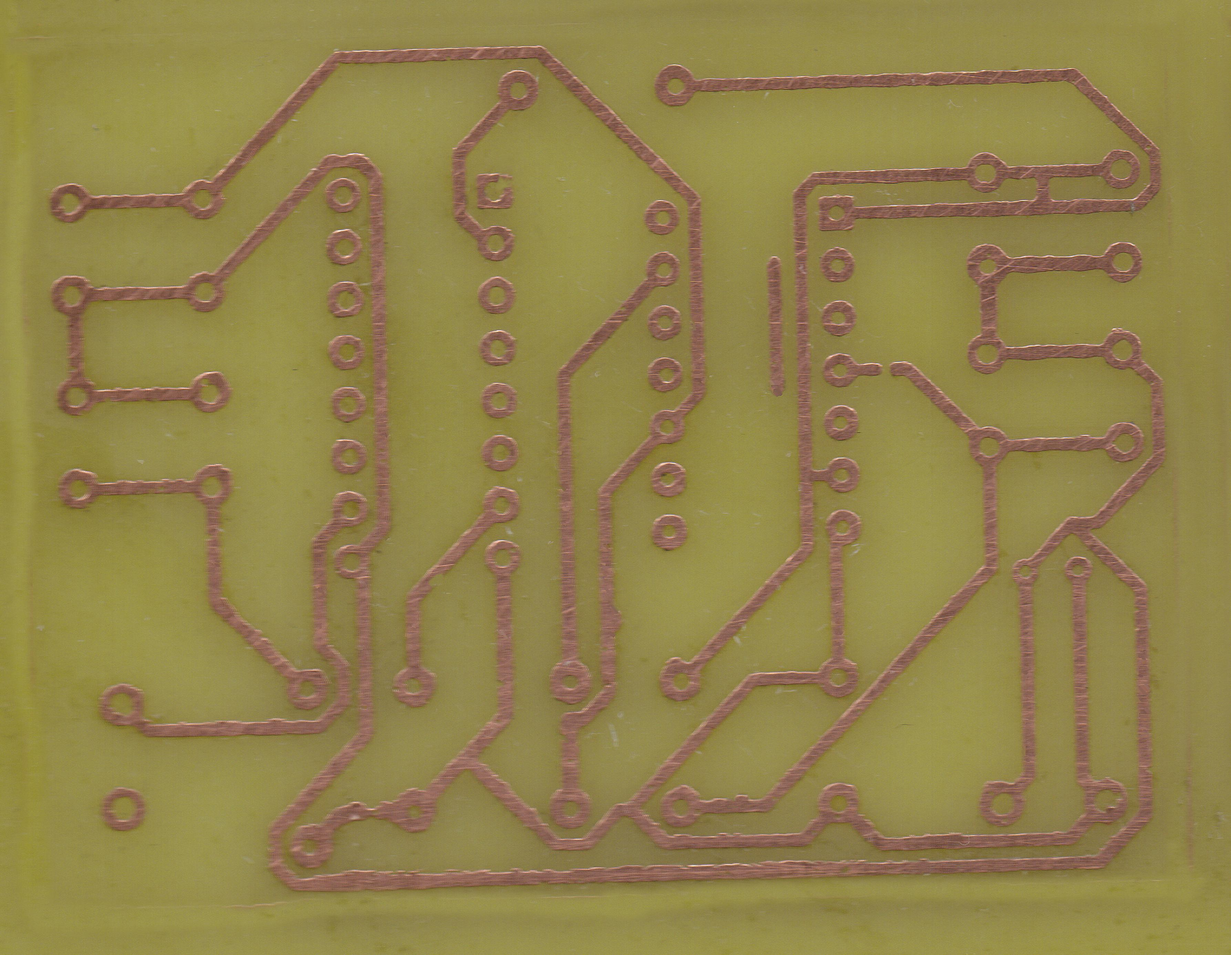missing_hole: (470, 170, 518, 213)
mouse_bite: (348, 793, 389, 826), (421, 561, 447, 591)
open_circuit: (872, 356, 900, 383)
short: (1031, 163, 1056, 221)
spur: (597, 597, 626, 646), (669, 828, 693, 855), (733, 792, 752, 819)
spurious_copper: (760, 252, 790, 406)
